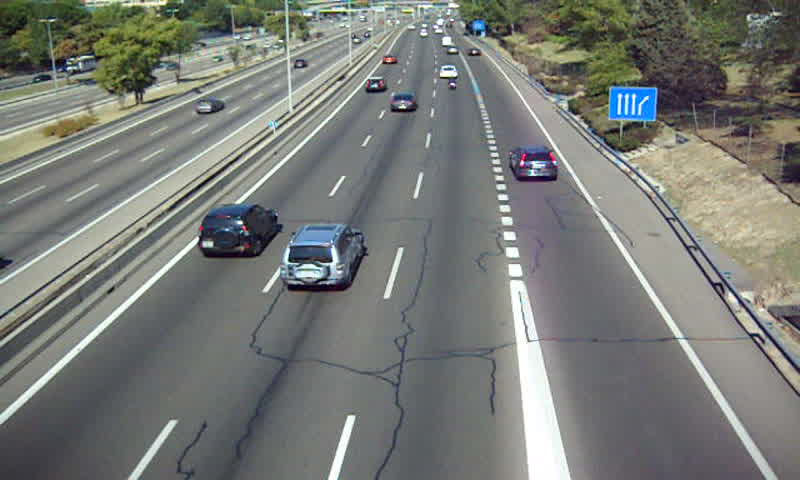car: (279, 227, 363, 288), (198, 204, 277, 256), (511, 146, 557, 178), (388, 93, 418, 113), (364, 76, 388, 93), (438, 64, 458, 78), (381, 54, 400, 65)
motorcycle: (447, 78, 459, 92)
